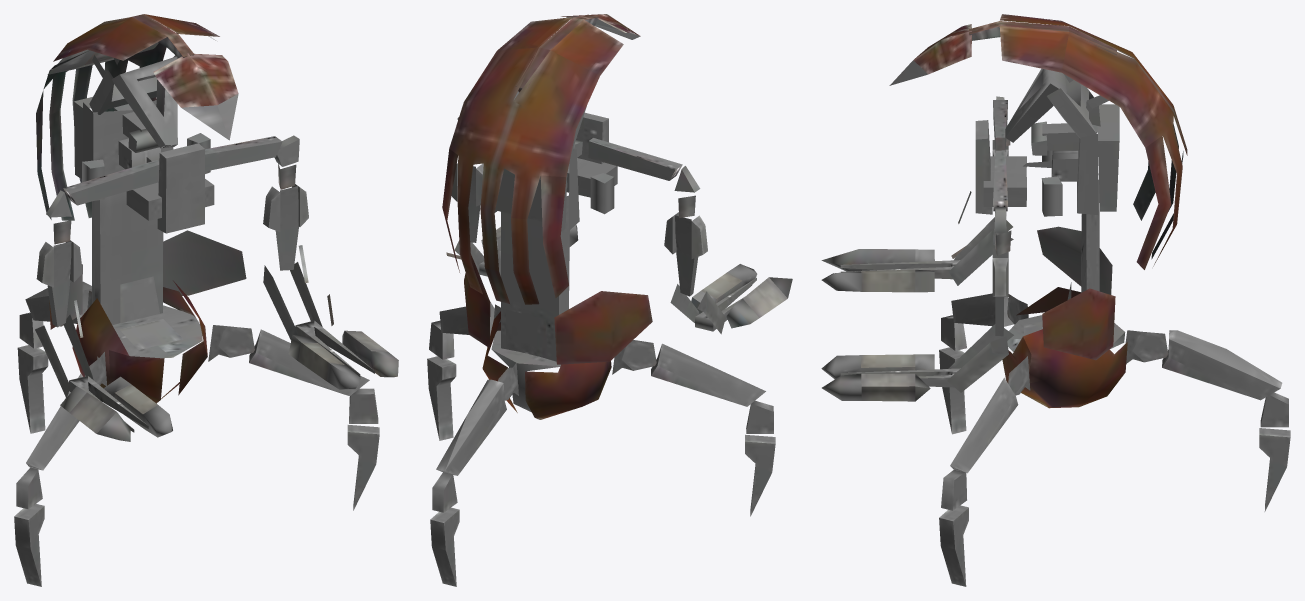
Rendered from droideka.far.glb.
3 renders of one model, left to right at view 1: azimuth 30°, elevation 25°; view 2: azimuth 150°, elevation 25°; view 3: azimuth 270°, elevation 25°, orthographic. The views are drawn at different scales.
Bounding box in the file's own units: 1.56 × 2.02 × 1.77.
Materials: 1 (1 with a texture image).
